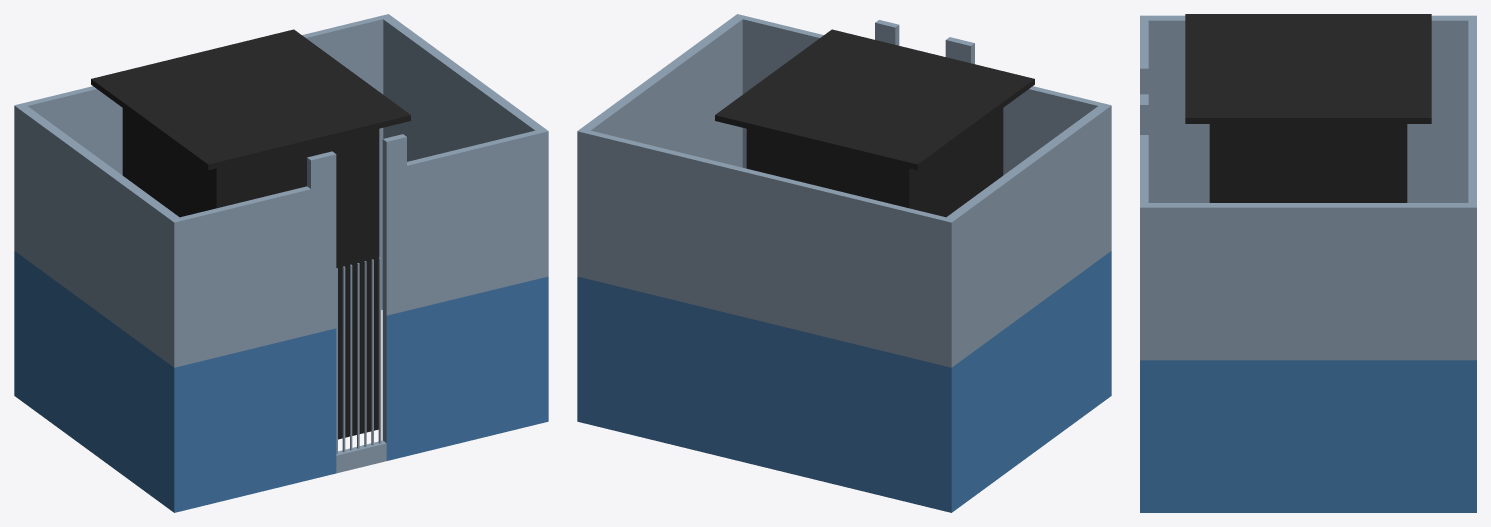
The model's file is casa_3.fbx.
3 renders of one model, left to right at view 1: azimuth 30°, elevation 25°; view 2: azimuth 150°, elevation 25°; view 3: azimuth 270°, elevation 25°, orthographic. The views are drawn at different scales.
Visible parts, largest first — view 1: Cube; view 2: Cube; view 3: Cube.
Part boxes in pixels (bbox=[...]): Cube: bbox=[14, 14, 548, 512]; Cube: bbox=[577, 14, 1111, 512]; Cube: bbox=[1140, 14, 1476, 512].
Size of the model in its own units: 2240 by 1824 by 1660.
